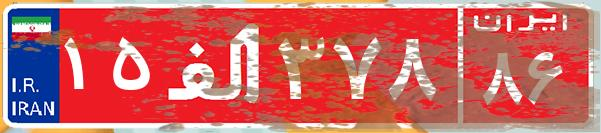1: (57, 26, 110, 107)
3: (273, 28, 330, 110)
5: (110, 28, 158, 105)
6: (525, 38, 570, 115)
7: (330, 28, 385, 110)
8: (385, 28, 445, 110), (475, 38, 525, 113)
الف: (158, 15, 273, 115)
